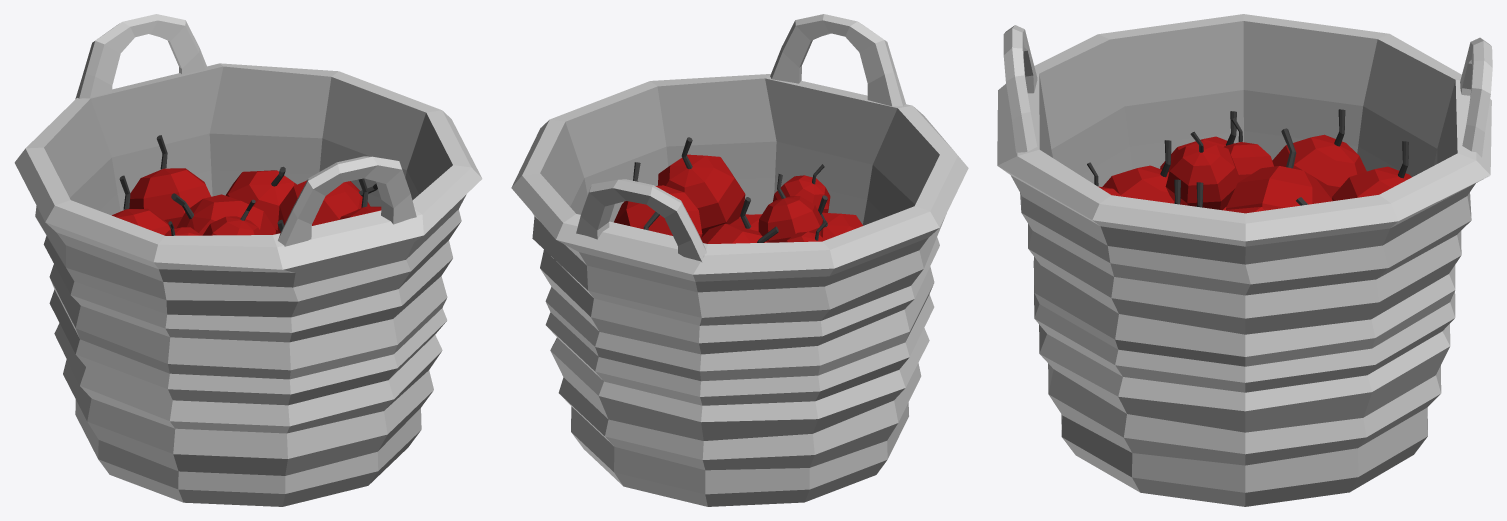
The model's file is PT_Basket_03_fruits.fbx.
The picture shows the model from 3 angles, left to right: view 1: azimuth 30°, elevation 25°; view 2: azimuth 150°, elevation 25°; view 3: azimuth 270°, elevation 25°; orthographic projection. The views are drawn at different scales.
Visible parts, largest first — view 1: PT_Basket_03_fruits; view 2: PT_Basket_03_fruits; view 3: PT_Basket_03_fruits.
Part boxes in pixels (box(x1,y1,x2,y2)): PT_Basket_03_fruits: box(14, 14, 482, 506); PT_Basket_03_fruits: box(511, 14, 968, 506); PT_Basket_03_fruits: box(997, 14, 1492, 506).
Size of the model in its own units: 56.35 by 47.17 by 53.62.
1 material, 1 textured.
